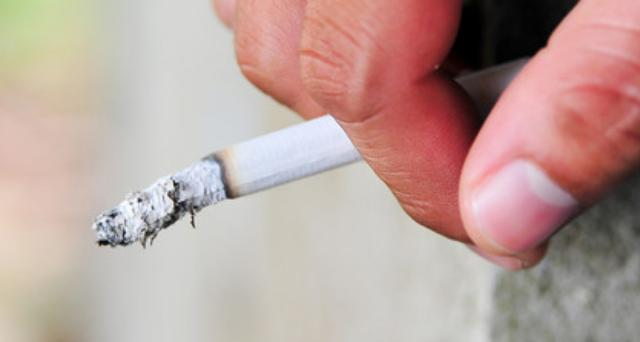Cigarette: (93, 53, 563, 249)
